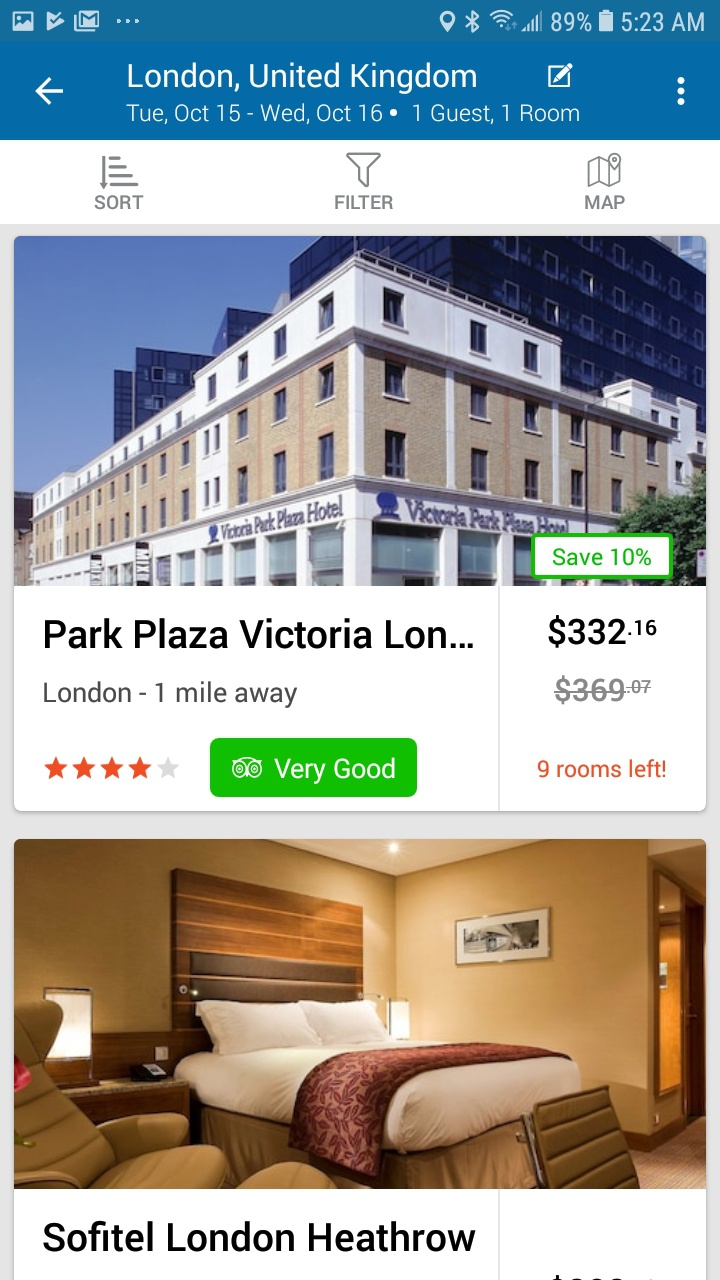Icon: (45, 756, 181, 781), (100, 156, 140, 191), (588, 153, 622, 188), (35, 77, 65, 107), (547, 63, 574, 89), (675, 74, 686, 106)
Image: (14, 839, 706, 1189), (14, 237, 706, 587), (346, 153, 382, 189)
Text: (43, 1220, 477, 1252), (45, 618, 474, 650), (128, 62, 477, 96), (126, 104, 580, 126), (44, 681, 298, 709), (548, 615, 657, 649), (553, 675, 651, 706), (536, 756, 668, 779), (335, 195, 394, 210), (95, 195, 145, 211), (585, 195, 626, 210)
TextButton: (210, 738, 418, 798)
UpperTaskBar: (1, 1, 720, 43)
